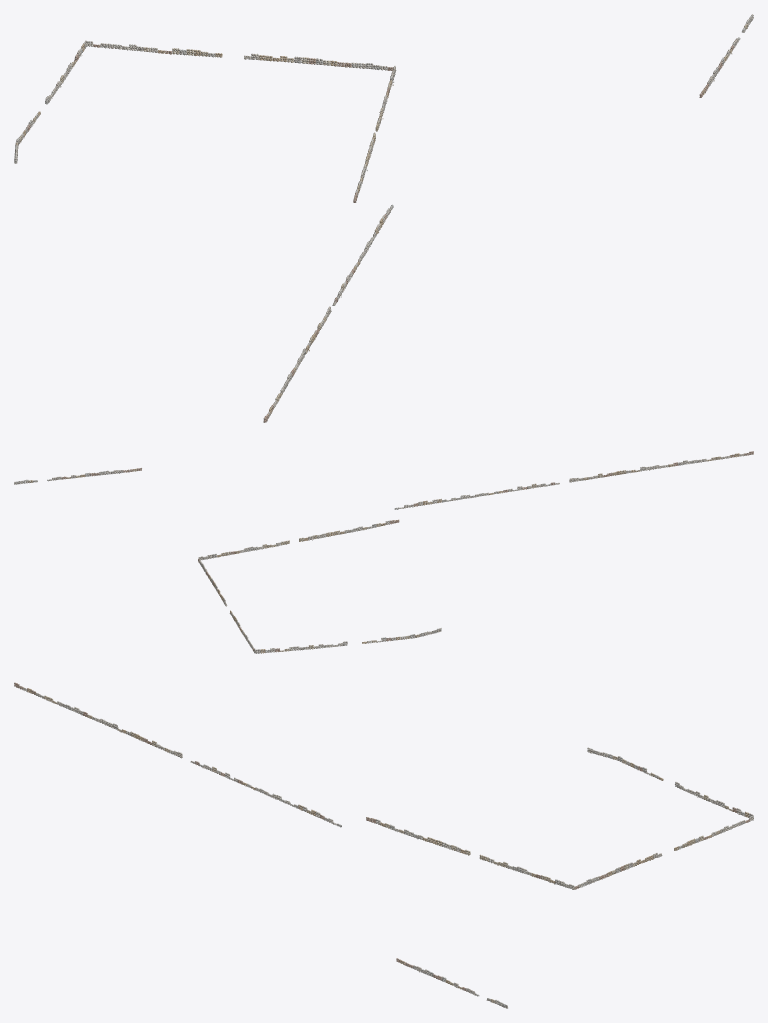
Rendered from farm_3_-6_near.glb.
3 views of the same model, one above another, from view 1: azimuth 30°, elevation 25°; view 2: azimuth 150°, elevation 25°; view 3: azimuth 270°, elevation 25° (orthographic). The views are drawn at different scales.
Visible parts, largest first — view 1: geometry_0; view 2: geometry_0; view 3: geometry_0.
Boxes of the visible parts, x1=… form: geometry_0: x1=14, y1=14, x2=753, y2=422; geometry_0: x1=14, y1=451, x2=753, y2=653; geometry_0: x1=14, y1=682, x2=753, y2=1008.
Size of the model in its own units: 198 by 8.52 by 199.
